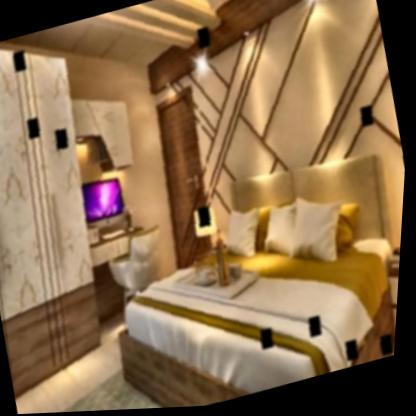Bed: (92, 149, 408, 412)
Closet: (0, 25, 133, 402)
Wall Panel: (148, 0, 406, 270)
